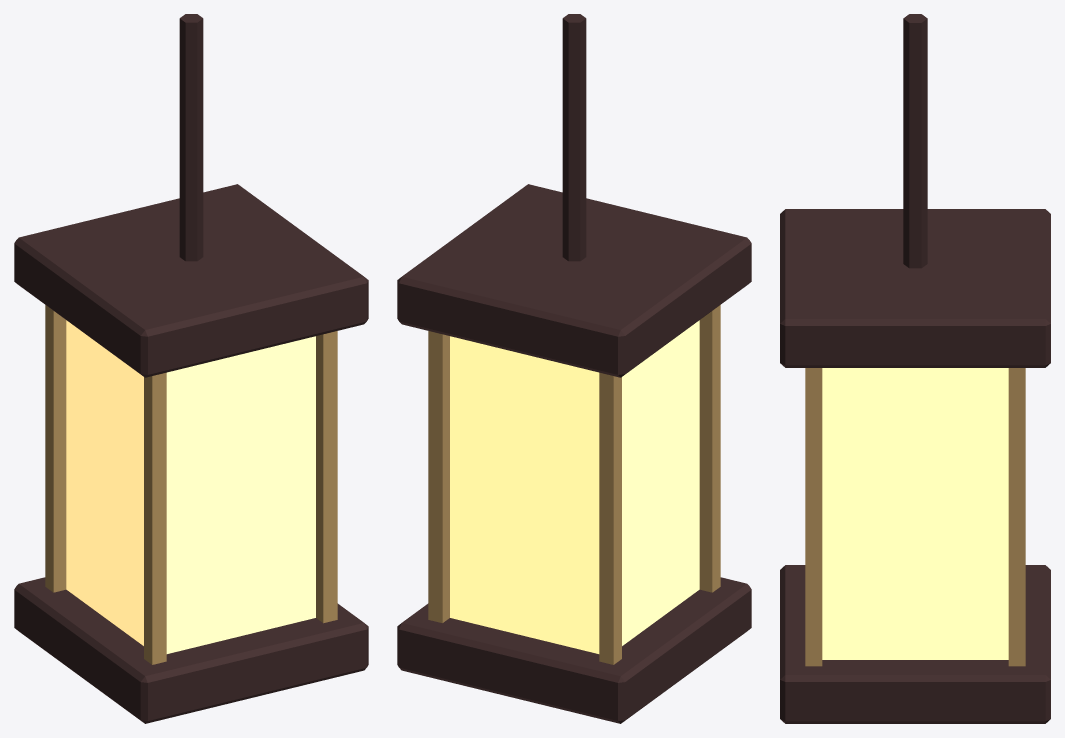
File: library_lantern.glb
3 renders of one model, left to right at view 1: azimuth 30°, elevation 25°; view 2: azimuth 150°, elevation 25°; view 3: azimuth 270°, elevation 25°, orthographic. The views are drawn at different scales.
Visible parts, largest first — view 1: library_lantern_Timber, library_lantern_Lantern, library_lantern_Bronze; view 2: library_lantern_Timber, library_lantern_Lantern, library_lantern_Bronze; view 3: library_lantern_Timber, library_lantern_Lantern, library_lantern_Bronze.
Boxes of the visible parts, x1,y1,x2,y2 form: library_lantern_Timber: (14,14,368,723); library_lantern_Lantern: (66,320,315,653); library_lantern_Bronze: (45,305,337,664); library_lantern_Timber: (397,14,751,723); library_lantern_Lantern: (450,320,699,653); library_lantern_Bronze: (428,305,720,664); library_lantern_Timber: (780,14,1050,723); library_lantern_Lantern: (822,368,1008,659); library_lantern_Bronze: (805,368,1025,666).
Bounding box in the file's own units: 0.4 × 1.06 × 0.4.
